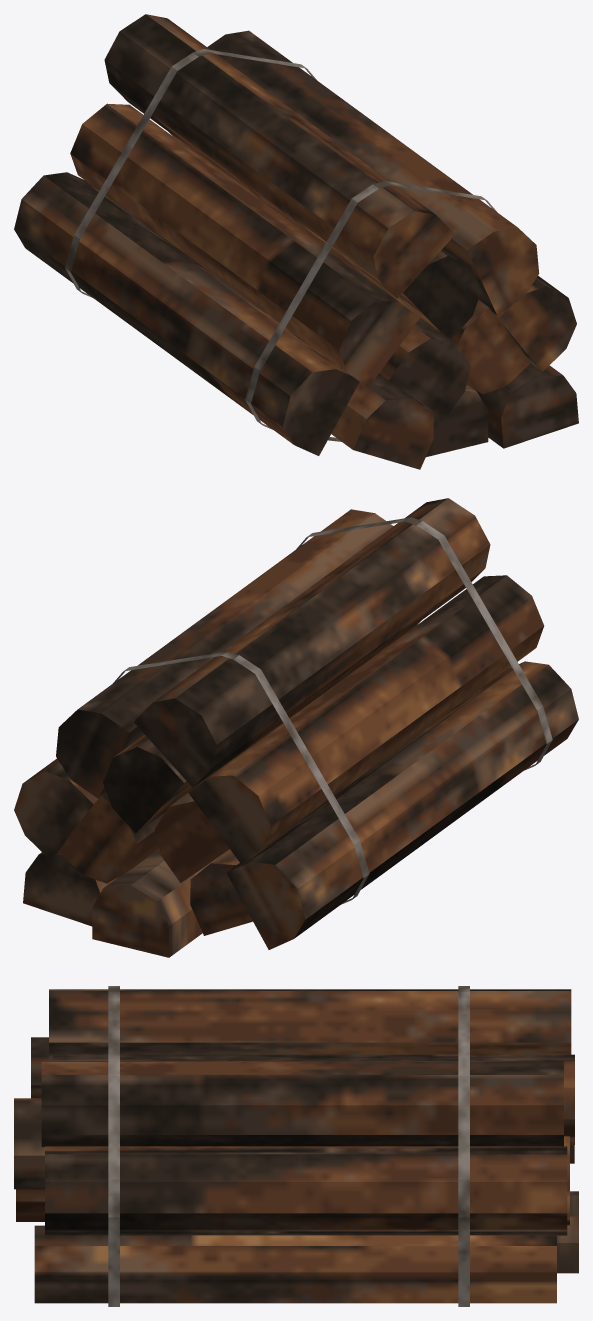
File: wooden_logs_3.fbx
3 renders of one model, top to bottom at view 1: azimuth 30°, elevation 25°; view 2: azimuth 150°, elevation 25°; view 3: azimuth 270°, elevation 25°, orthographic. The views are drawn at different scales.
Parts seen in each view (by area): view 1: Wood_Pile_1; view 2: Wood_Pile_1; view 3: Wood_Pile_1.
Part boxes in pixels (x1,y1,x2,y2): Wood_Pile_1: (14, 14, 578, 469); Wood_Pile_1: (14, 498, 578, 957); Wood_Pile_1: (14, 986, 578, 1306).
Bounding box in the file's own units: 199 × 165 × 339.
